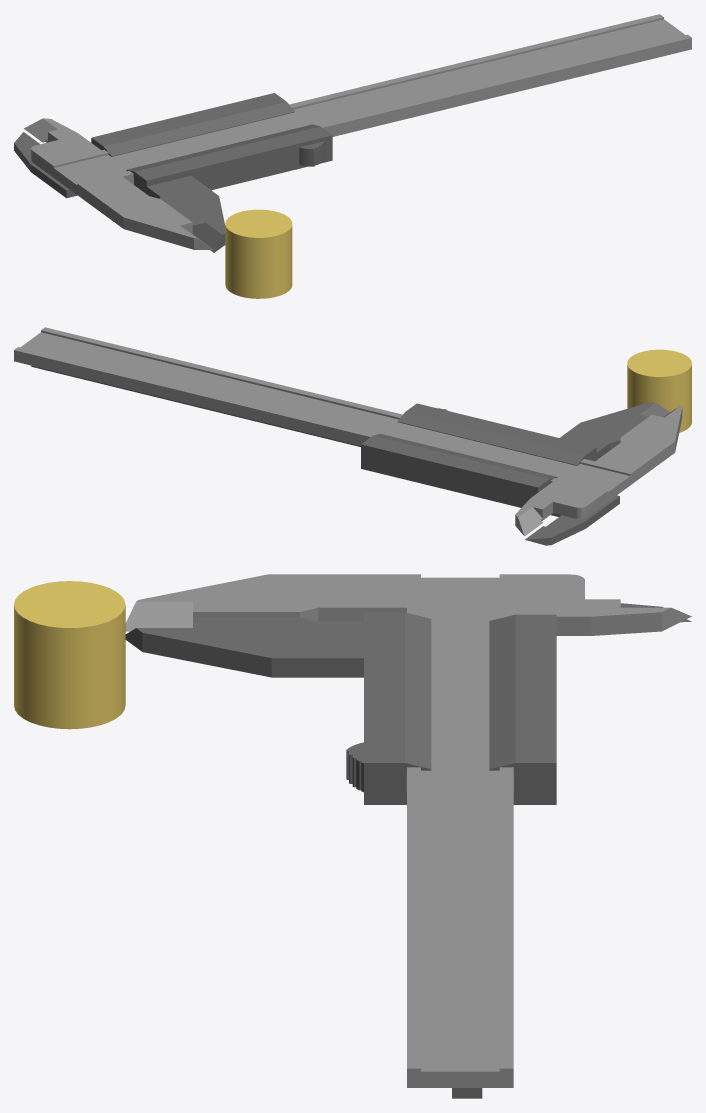
The model's file is constructor_scene_model_1.gltf.
The picture shows the model from 3 angles, top to bottom: view 1: azimuth 30°, elevation 25°; view 2: azimuth 150°, elevation 25°; view 3: azimuth 270°, elevation 25°; orthographic projection. The views are drawn at different scales.
Parts seen in each view (by area): view 1: Caliper_Fix, Куб, Цилиндр; view 2: Caliper_Fix, Куб, Цилиндр; view 3: Caliper_Fix, Куб, Цилиндр.
Boxes of the visible parts, <box> form: Caliper_Fix: <box>24,14,691,249</box>; Куб: <box>14,93,332,252</box>; Цилиндр: <box>225,209,292,298</box>; Caliper_Fix: <box>14,327,682,536</box>; Куб: <box>31,365,670,545</box>; Цилиндр: <box>627,349,691,432</box>; Caliper_Fix: <box>125,574,691,1087</box>; Куб: <box>125,603,691,1098</box>; Цилиндр: <box>14,581,125,729</box>.
Size of the model in its own units: 20.97 by 2 by 12.16.
